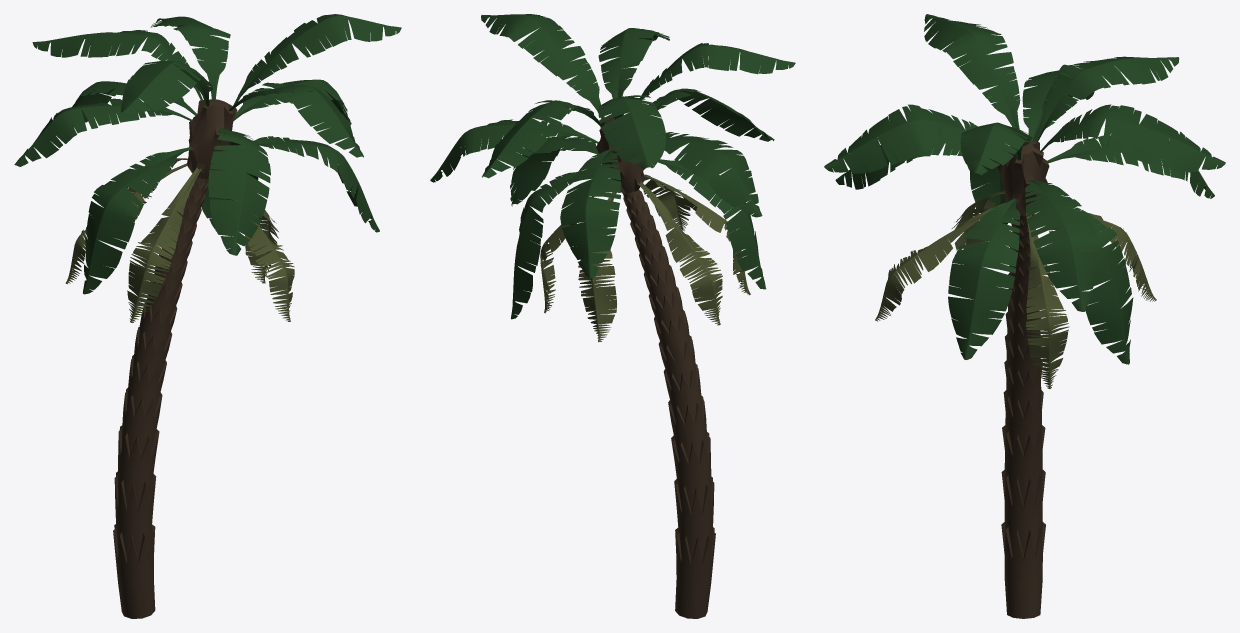
Rendered from Palmier_V02.fbx.
The picture shows the model from 3 angles, left to right: view 1: azimuth 30°, elevation 25°; view 2: azimuth 150°, elevation 25°; view 3: azimuth 270°, elevation 25°; orthographic projection. The views are drawn at different scales.
Parts seen in each view (by area): view 1: pCylinder30; view 2: pCylinder30; view 3: pCylinder30.
Part boxes in pixels (left/top/right/bottom): pCylinder30: left=14, top=14, right=401, bottom=618; pCylinder30: left=430, top=14, right=795, bottom=618; pCylinder30: left=824, top=14, right=1225, bottom=618.
Size of the model in its own units: 493 by 786 by 487.
